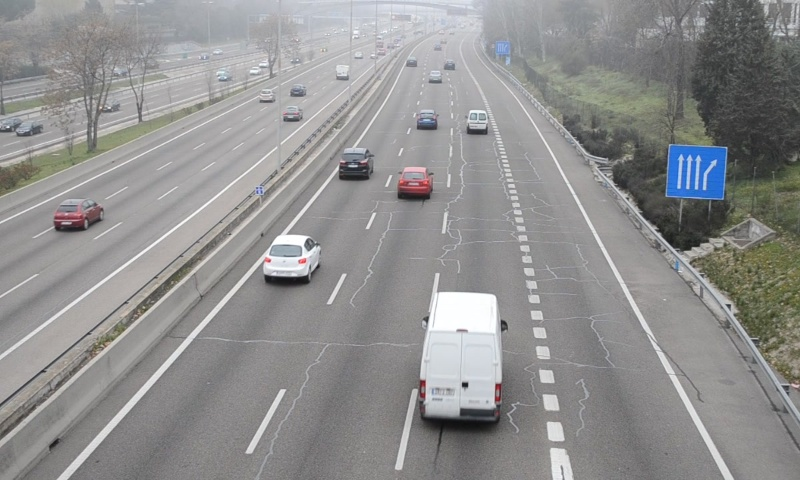car: (262, 235, 320, 278), (398, 166, 431, 198), (339, 147, 372, 178), (416, 109, 437, 130)
van: (417, 291, 502, 424), (466, 109, 489, 134)
